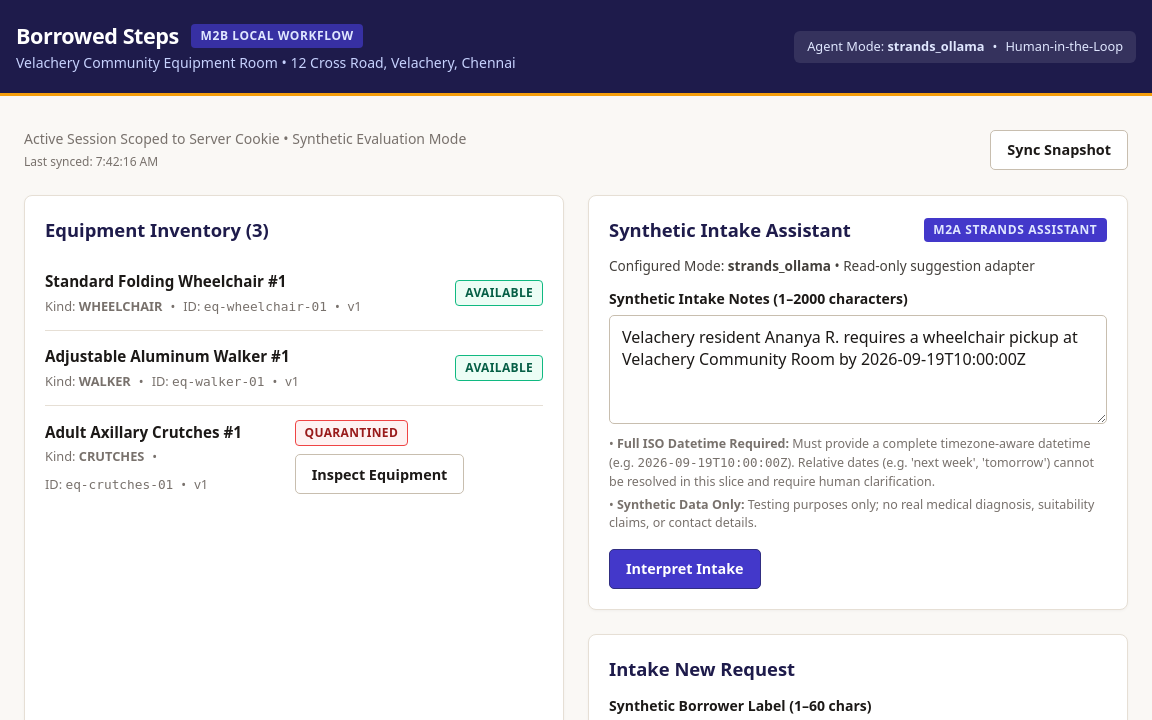
Test case: review R1: conflict refresh updates inspection version and clears prior approval
What coordinates should you click on to do the following:
click the button with aria-label "Inspect Adult Axillary Crutches"
I would click on:
 (380, 474)
Its box is [295, 454, 464, 494].
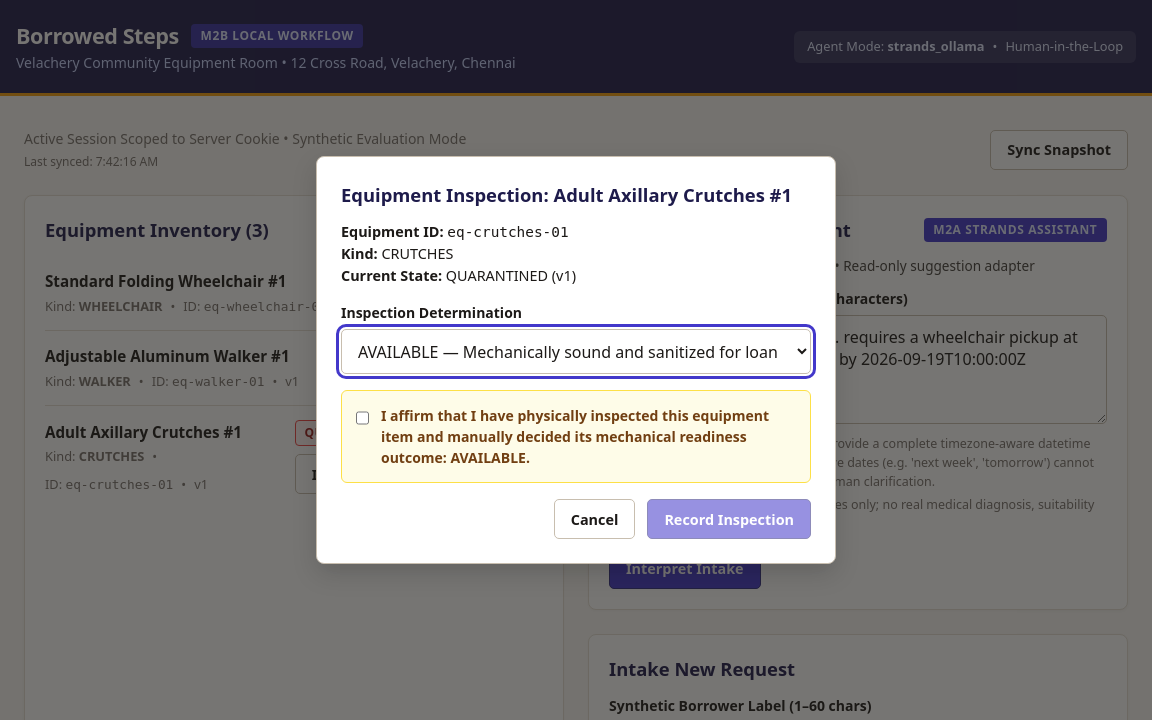
What coordinates should you click on to do the following:
click the checkbox
I would click on:
 (362, 418)
Its box is [356, 408, 369, 428].
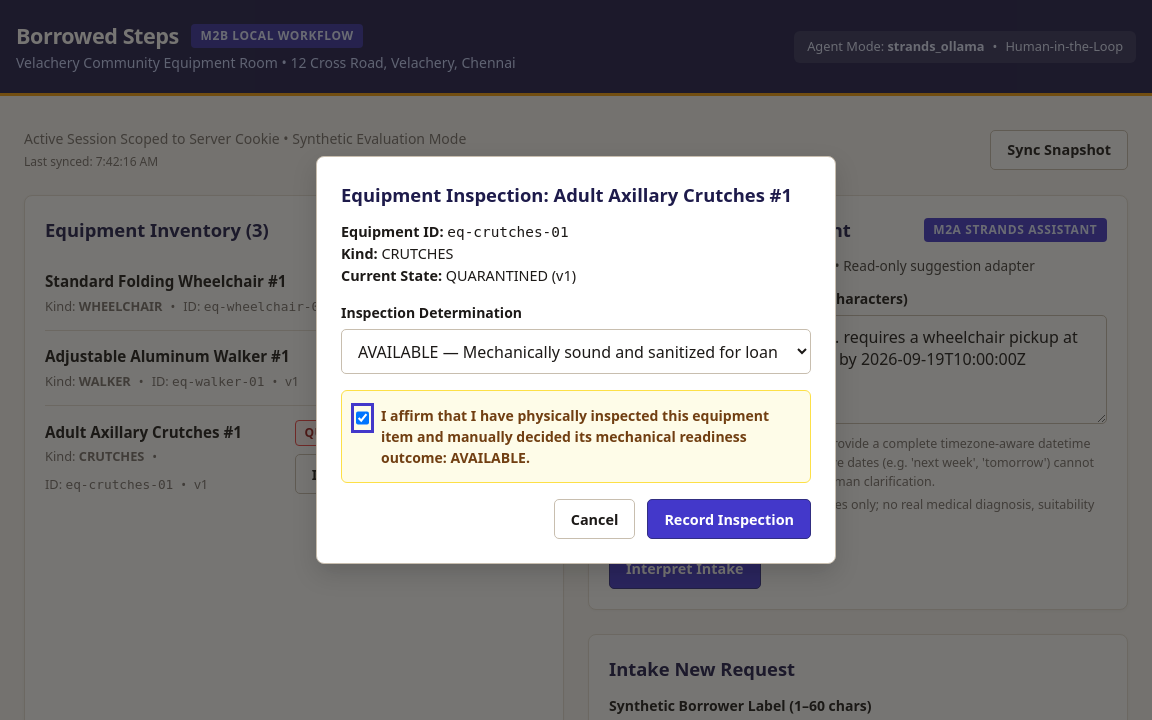
What coordinates should you click on to do the following:
click the button "Record Inspection"
I would click on:
 (729, 519)
Its box is [647, 499, 811, 539].
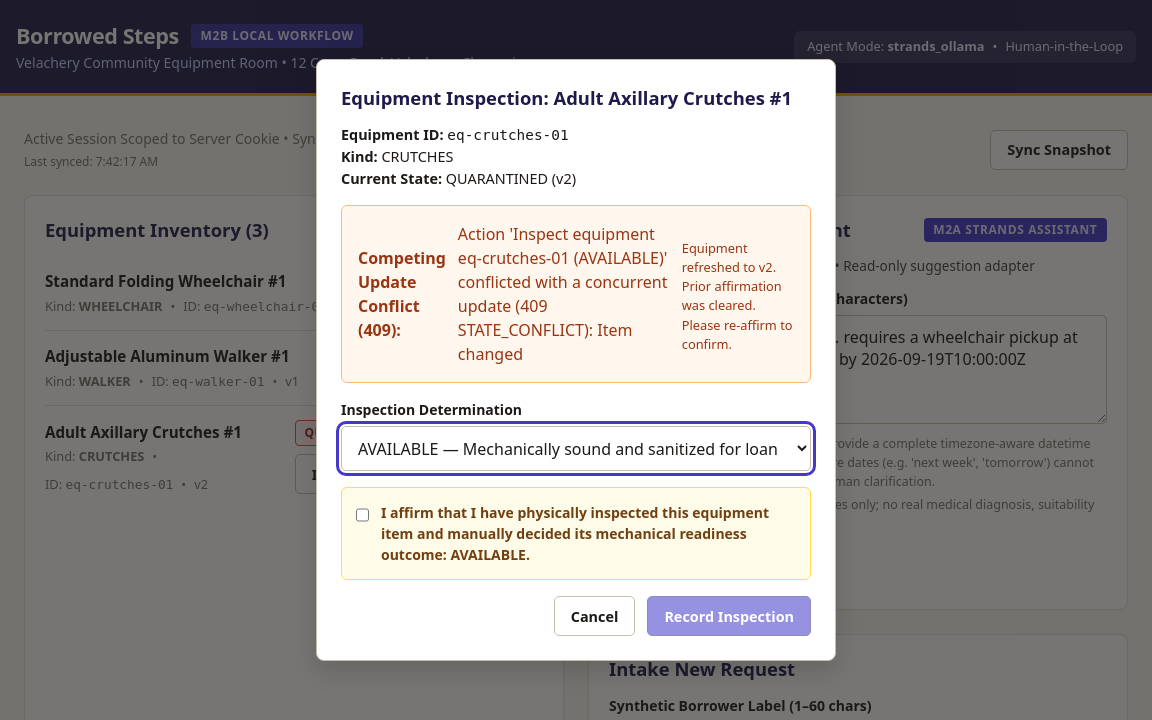
Expected: the checkbox is not checked, [356, 504, 369, 524]
Expected: the text "conflicted with a concurrent update" is shown, [458, 223, 668, 365]
